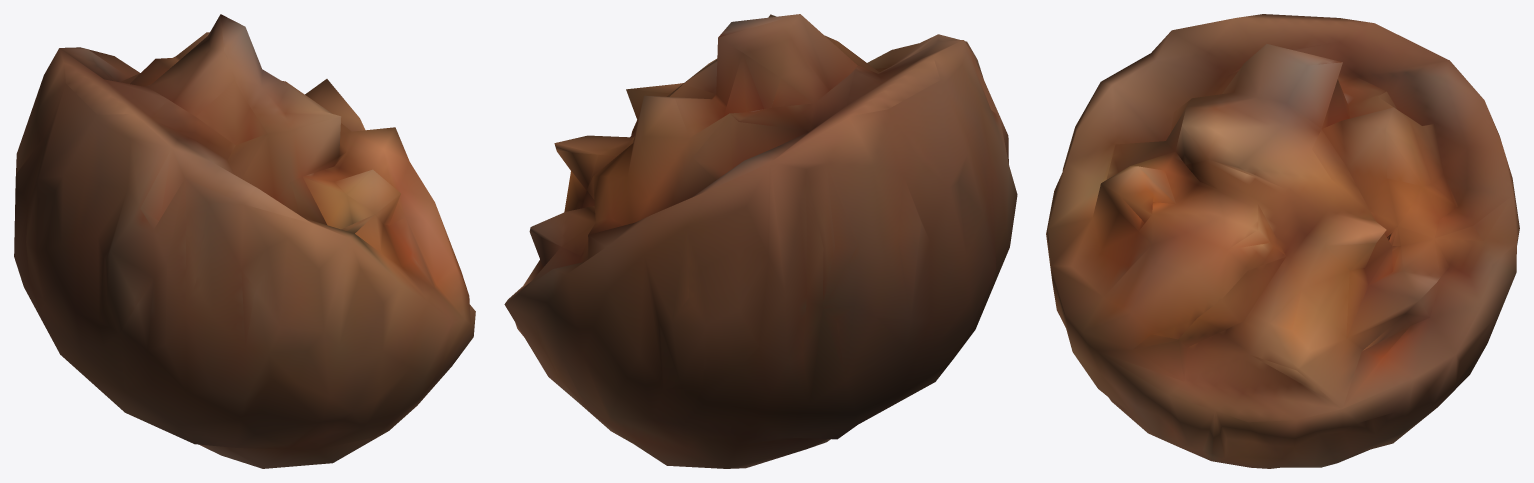
The model's file is dish_chitin_crunch.glb.
3 renders of one model, left to right at view 1: azimuth 30°, elevation 25°; view 2: azimuth 150°, elevation 25°; view 3: azimuth 270°, elevation 25°, orthographic. The views are drawn at different scales.
Visible parts, largest first — view 1: model; view 2: model; view 3: model.
Boxes of the visible parts, left/top/right/bottom form: model: left=14, top=14, right=475, bottom=468; model: left=504, top=14, right=1017, bottom=468; model: left=1046, top=14, right=1519, bottom=468.
Size of the model in its own units: 0.365 by 0.3578 by 0.3971.
1 material, 1 textured.
